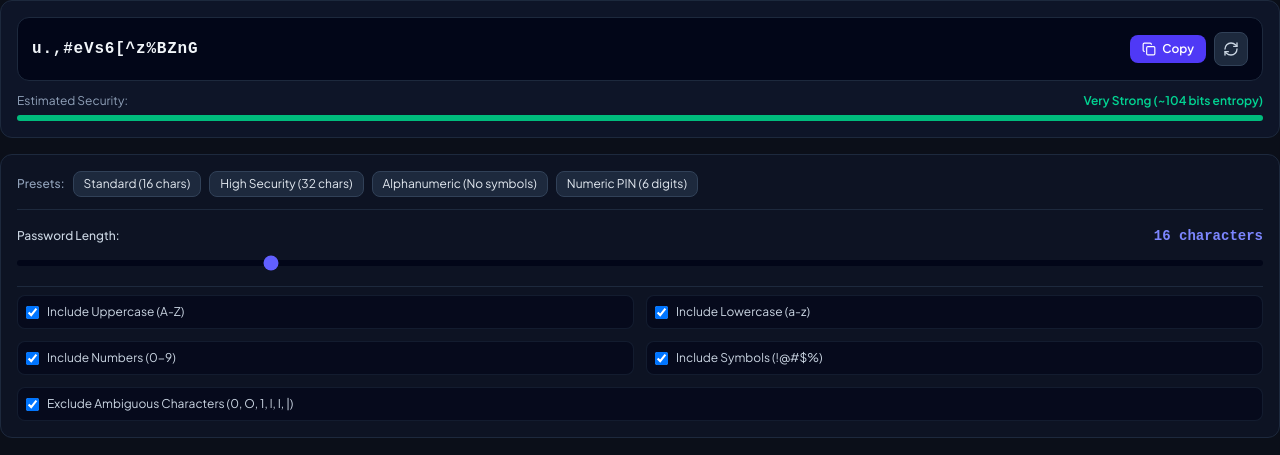
Test: PasswordGenerator Tool › handles empty character set gracefully
# Uncheck all character sets
Click the checkbox labelled "Include Uppercase (A-Z)": (32, 312) [26, 306, 39, 318]
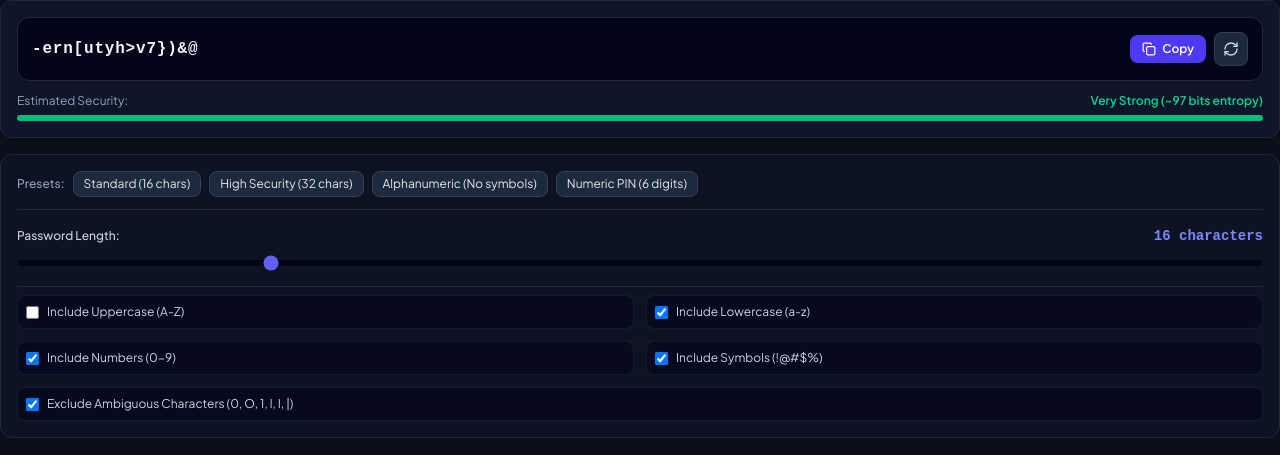
Click the checkbox labelled "Include Lowercase (a-z)": (662, 312) [655, 306, 668, 318]
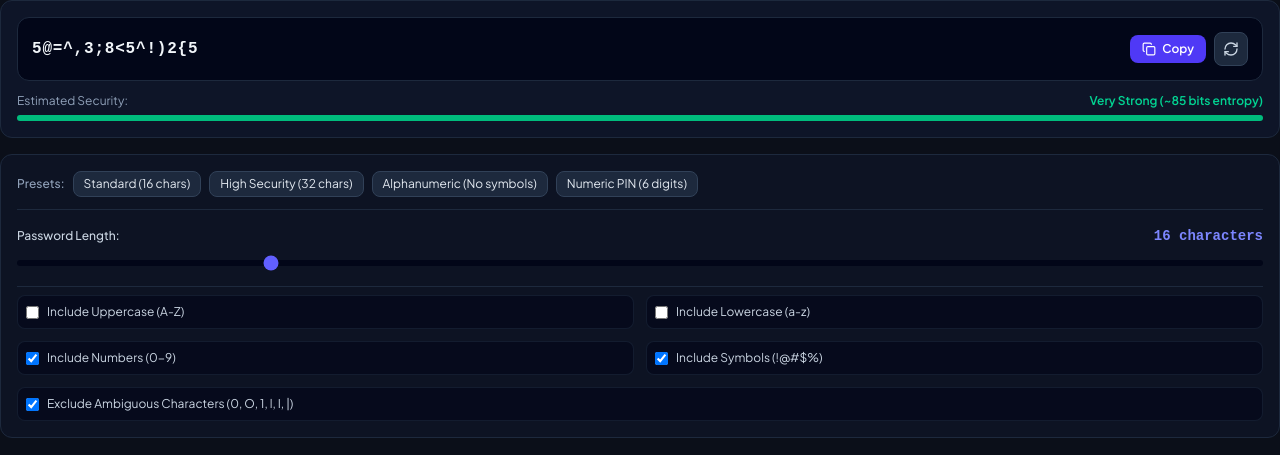
Click the checkbox labelled "Include Numbers (0-9)": (32, 358) [26, 352, 39, 364]
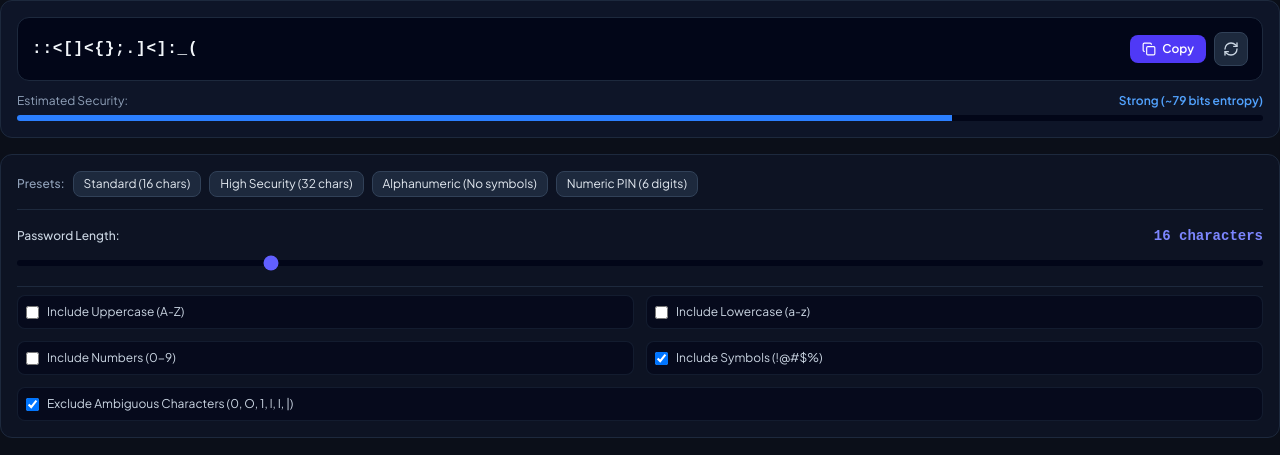
Click the checkbox labelled "Include Symbols (!@#$%)": (662, 358) [655, 352, 668, 364]
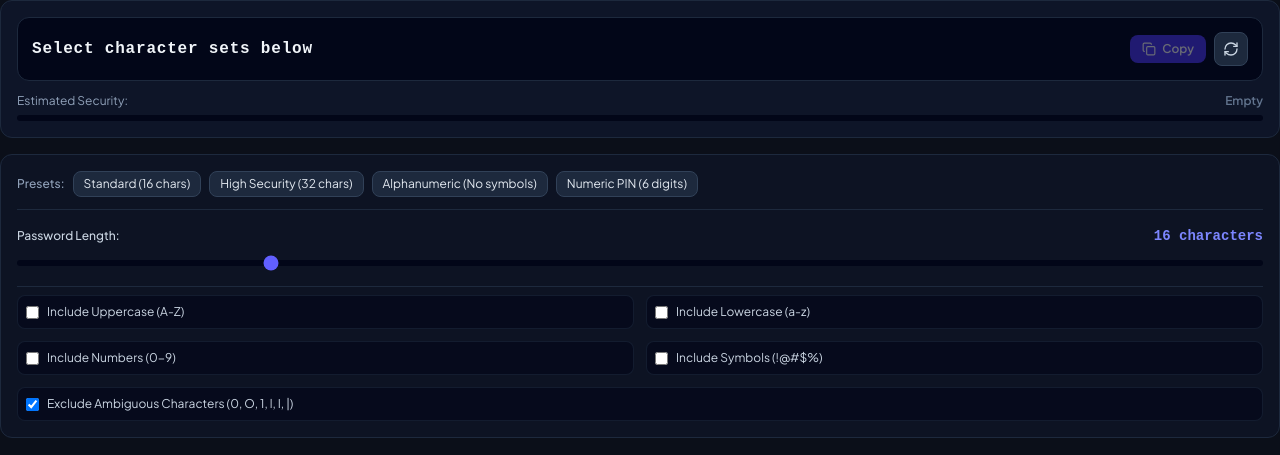
Expected: the text "Select character sets below" is shown, [32, 37, 313, 61]
